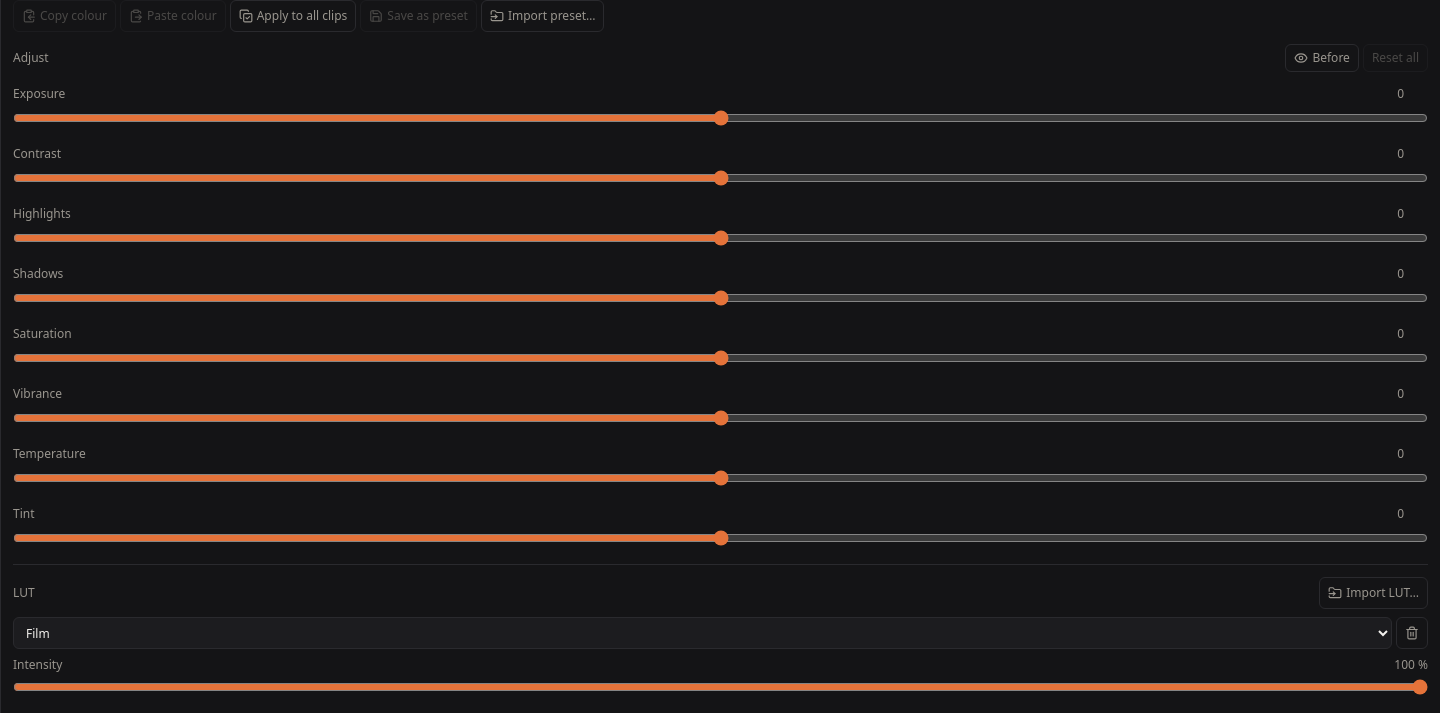
Test: a LUT in the preview and the Color tab › removes a LUT from CutVii only after asking; clips that used it then show it as missing
(page scrolled)
Click the button named "Remove this LUT from CutVii" at (1412, 633), box [1396,617,1428,649]
(page scrolled)
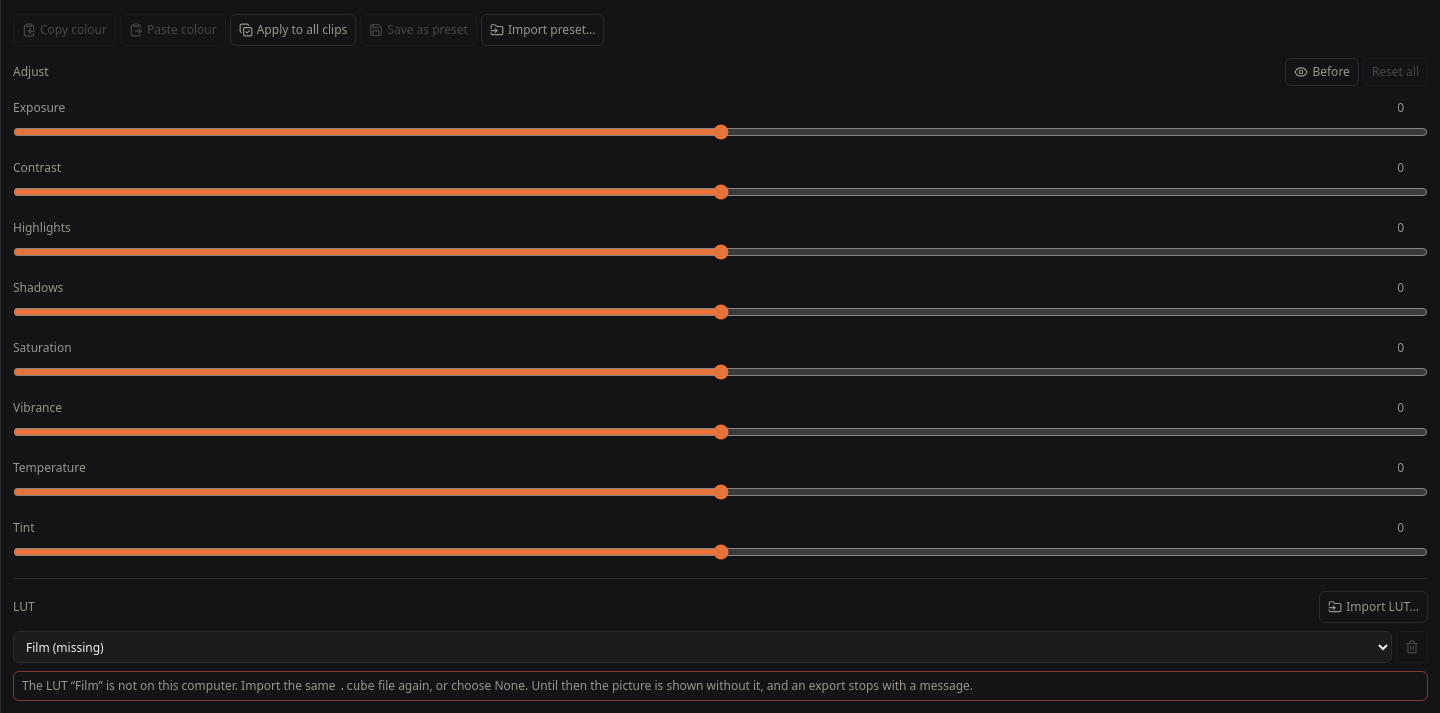
Now the message shows "not on this computer", box [99,677,339,694]
